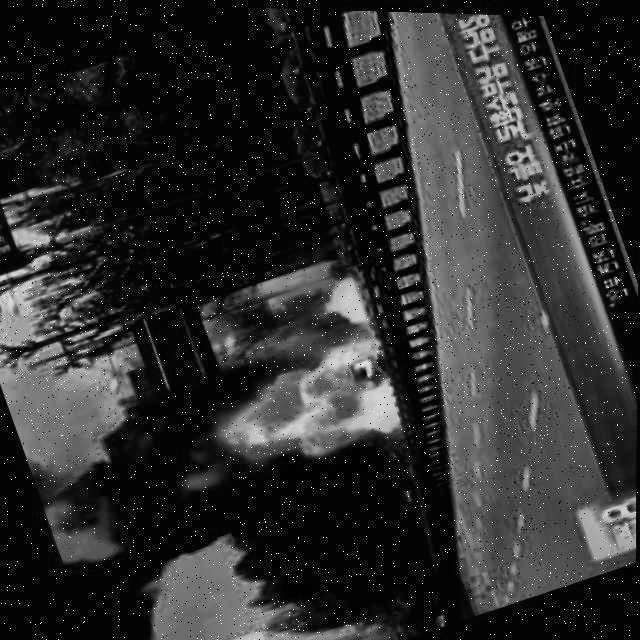Fire: (225, 334, 408, 481), (319, 274, 370, 332), (261, 261, 329, 295)
Smoke: (19, 370, 299, 640)
